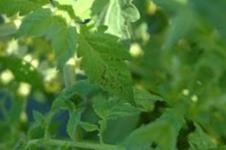Tomato leaf bacterial spot: (51, 8, 169, 117)
